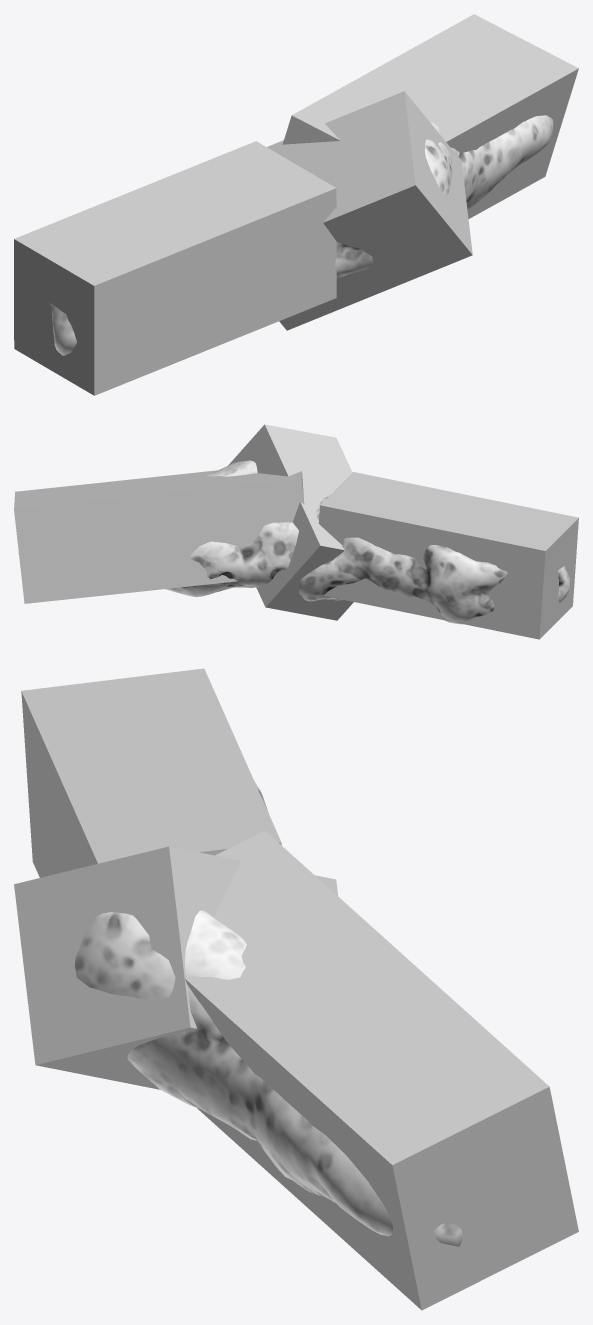
Rendered from Coral_8.glb.
3 renders of one model, top to bottom at view 1: azimuth 30°, elevation 25°; view 2: azimuth 150°, elevation 25°; view 3: azimuth 270°, elevation 25°, orthographic. The views are drawn at different scales.
Visible parts, largest first — view 1: Cube.020, Cube.021, Cube.022, A03612_Koralle8.001; view 2: Cube.022, Cube.020, A03612_Koralle8.001, Cube.021; view 3: Cube.022, Cube.020, Cube.021, A03612_Koralle8.001.
Part boxes in pixels (x1,y1,x2,y2): Cube.020: (14, 141, 336, 395); Cube.021: (267, 91, 472, 330); Cube.022: (282, 14, 578, 218); A03612_Koralle8.001: (49, 115, 553, 355); Cube.022: (14, 470, 304, 603); Cube.020: (318, 472, 578, 639); A03612_Koralle8.001: (18, 460, 570, 624); Cube.021: (228, 424, 353, 620); Cube.022: (185, 830, 578, 1310); Cube.020: (21, 668, 281, 877); Cube.021: (14, 846, 338, 1089); A03612_Koralle8.001: (74, 781, 463, 1246).
Bounding box in the file's own units: 0.6924 × 0.2338 × 0.3646.
1 material, 1 textured.
